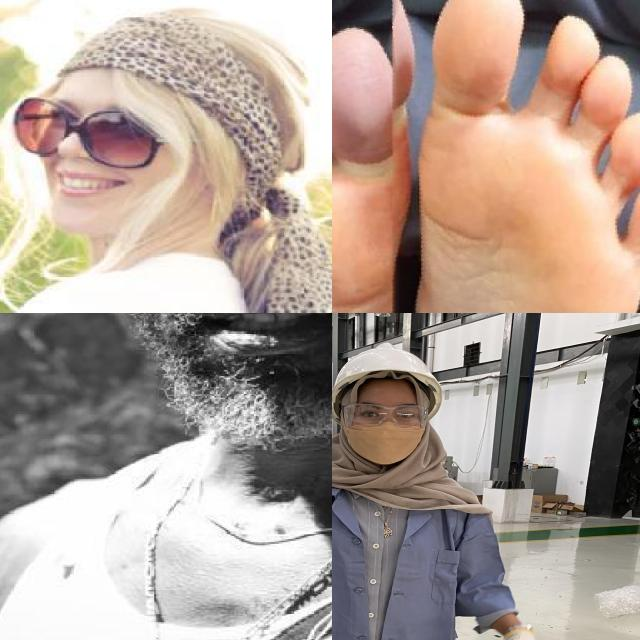Barefoots: (402, 0, 640, 313), (332, 27, 408, 313)
face_mask: (338, 400, 428, 465)
face_nomask: (38, 101, 153, 210)
glasses: (23, 82, 208, 158), (339, 400, 434, 428)
head_helmet: (332, 336, 452, 406)
head_nohelmet: (67, 0, 290, 98)
person: (0, 3, 332, 313), (332, 340, 557, 640)
